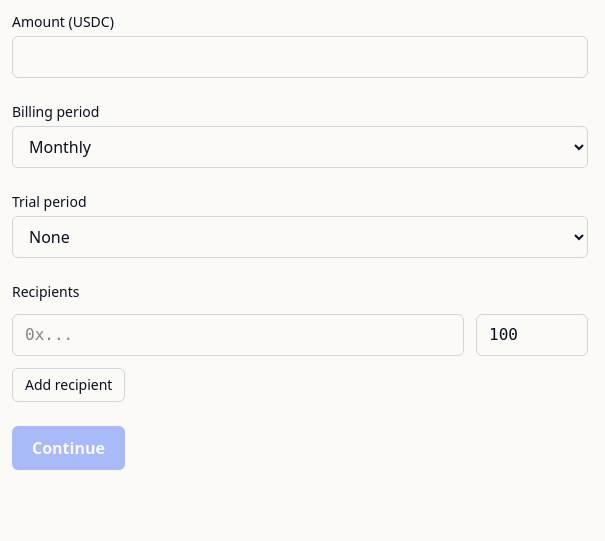
Test: PlanDetailsForm › adds a new empty recipient row when 'Add recipient' is clicked
Click the button "Add recipient": (69, 385) [12,368,125,402]
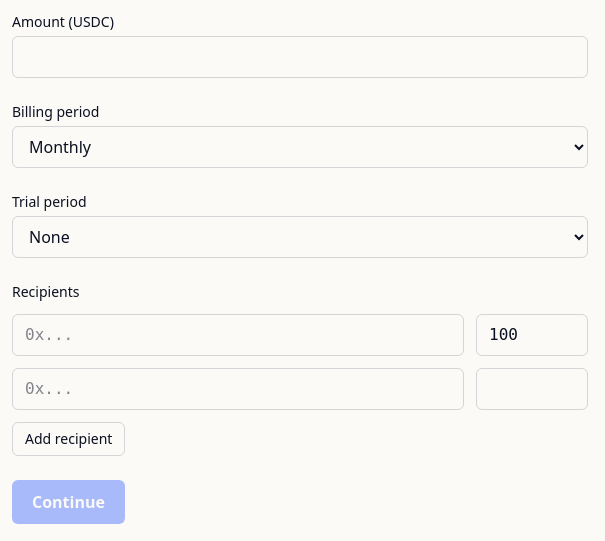
expect the number of fields named "percentage" is 2: met, box [476,314,588,356]; [476,368,588,410]
